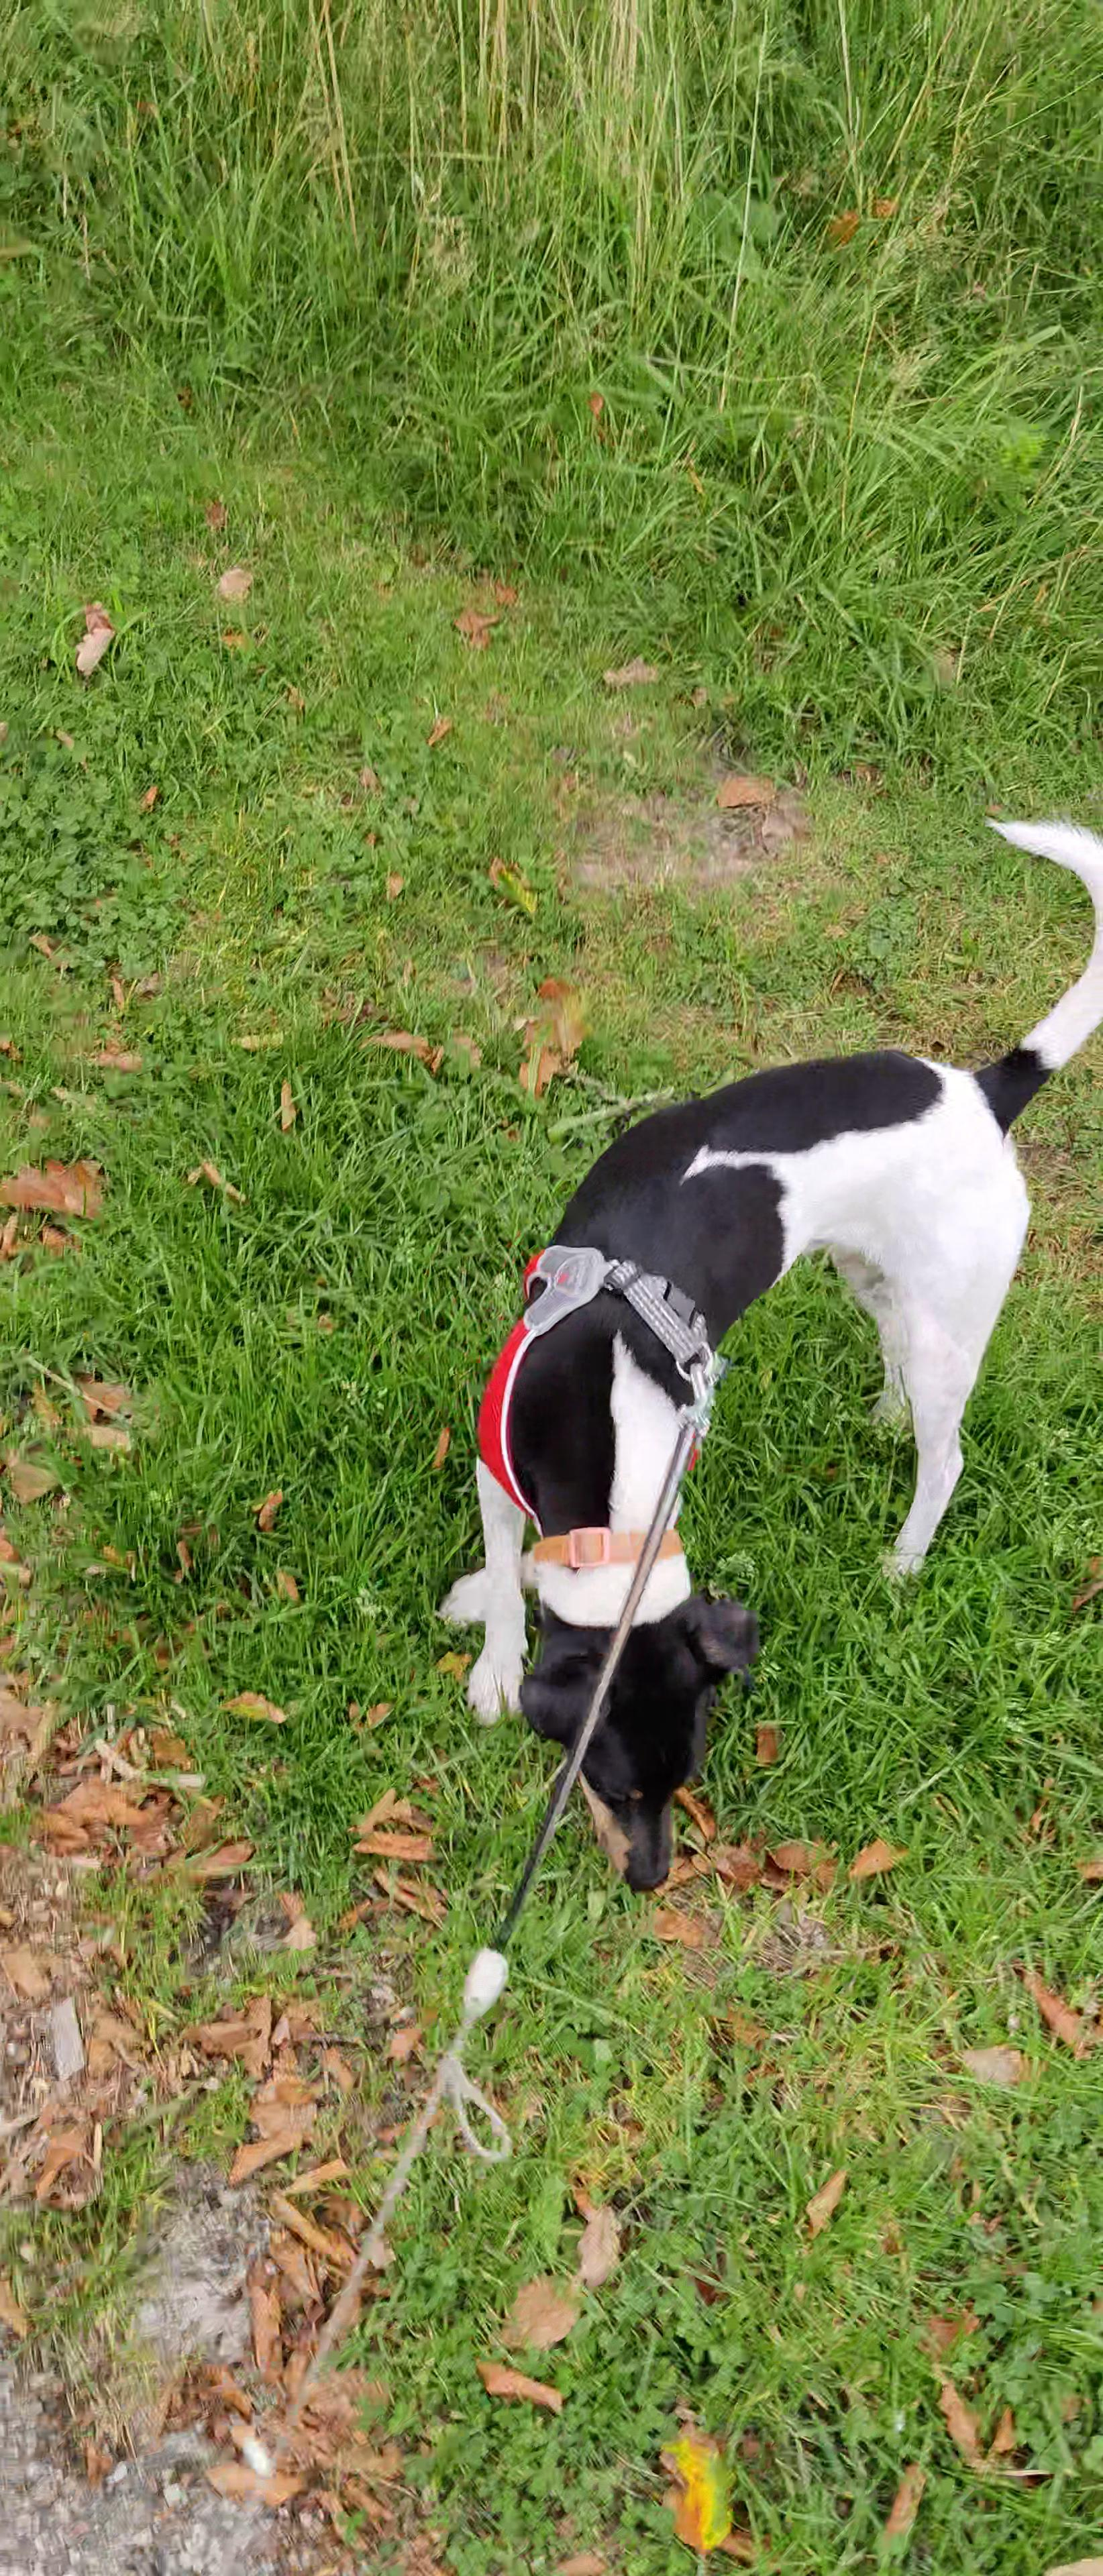Dog: (398, 728, 1103, 1930)
